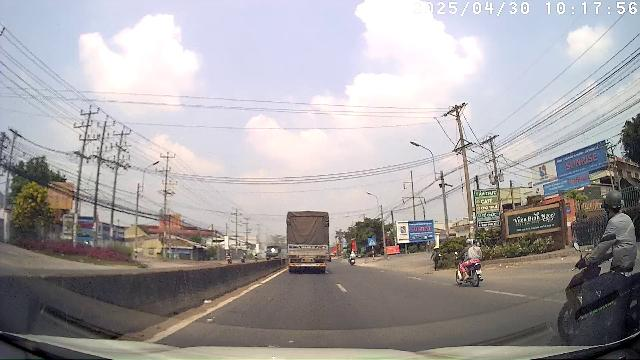423a-duong-nguoi-di-bo-sang-ngang-1: (368, 238, 376, 246)
